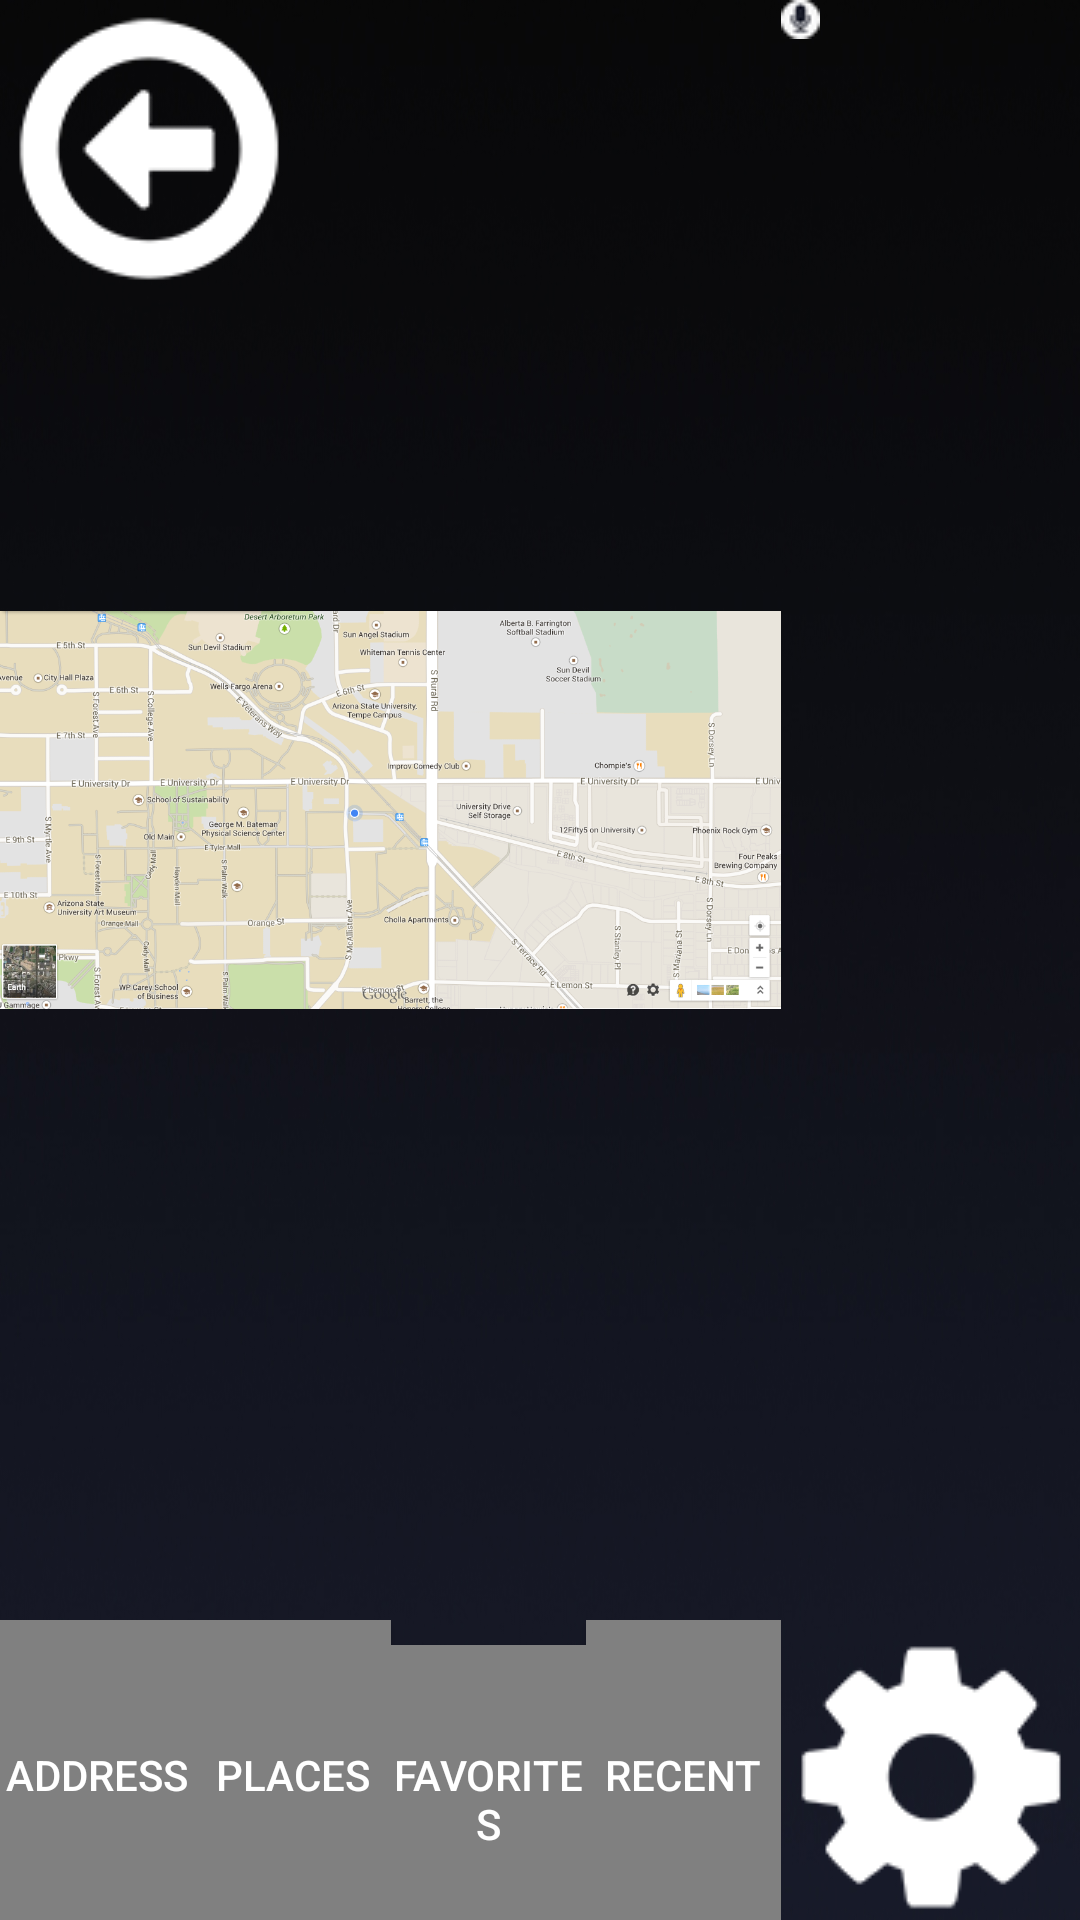

Point at icon controls on the screen. Image size 1080 × 1920, points as (x=x, y=y).
back: (x=149, y=148)
mic: (x=800, y=19)
settings: (x=931, y=1777)
